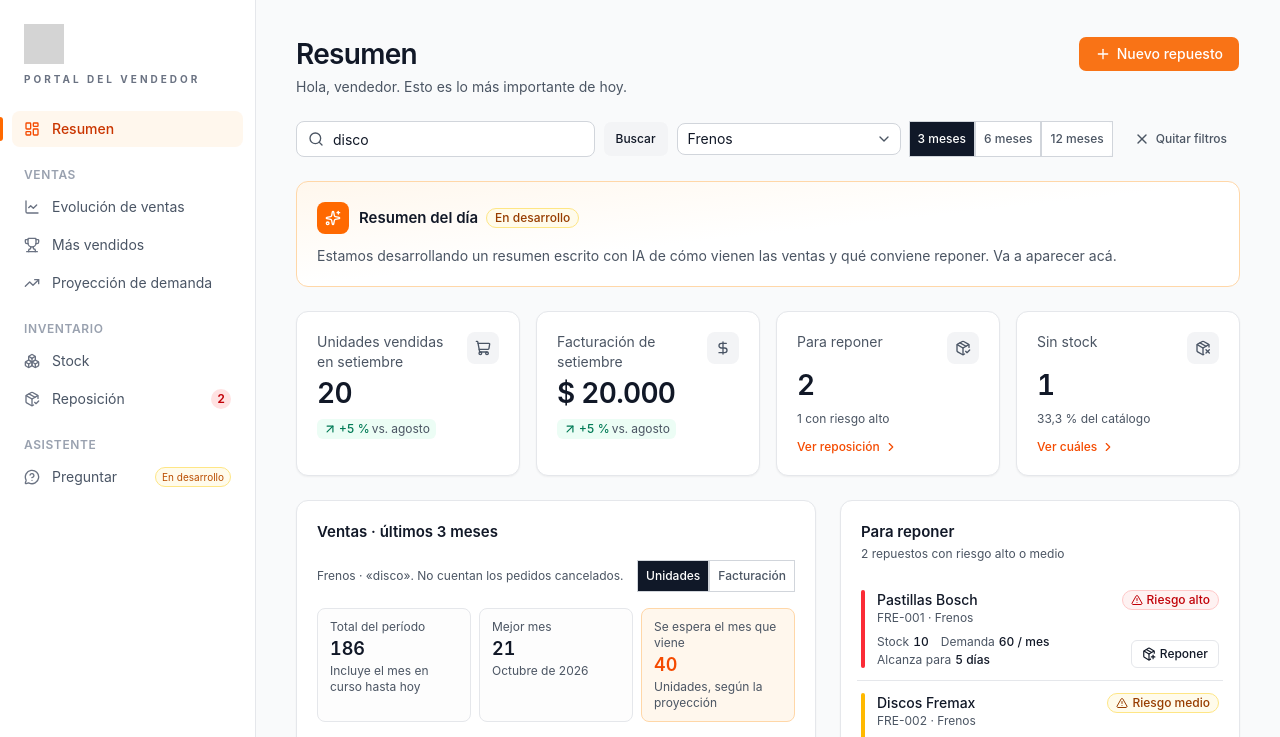
Scenario: filtros (HU 5.9) › removes every filter with Quitar filtros
expect the search field named "repuesto" holds "disco": met, box [296, 121, 594, 157]
What coordinates should you click on to do the following:
click the button "Quitar filtros"
I would click on:
 (1180, 139)
Its box is [1121, 121, 1240, 157].
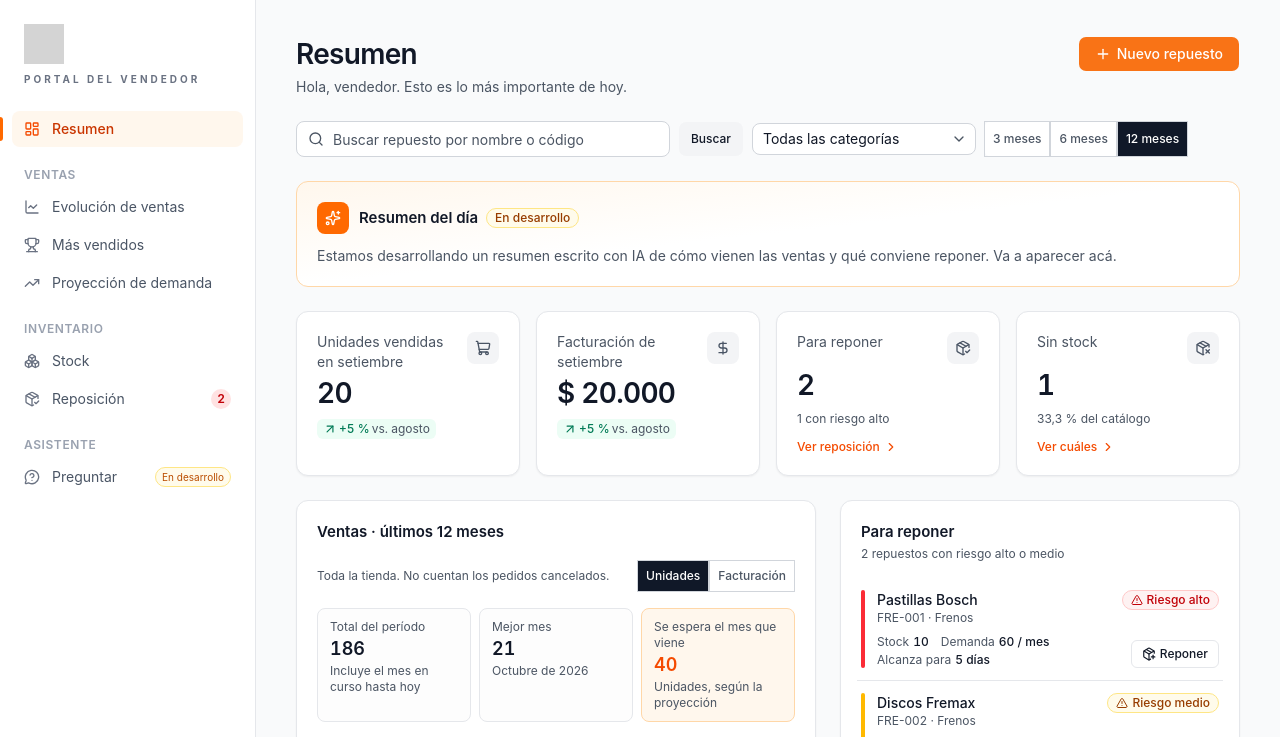
expect the search field labelled "repuesto" is empty: met, box [296, 121, 670, 157]
expect the button "Quitar filtros" is gone: met
